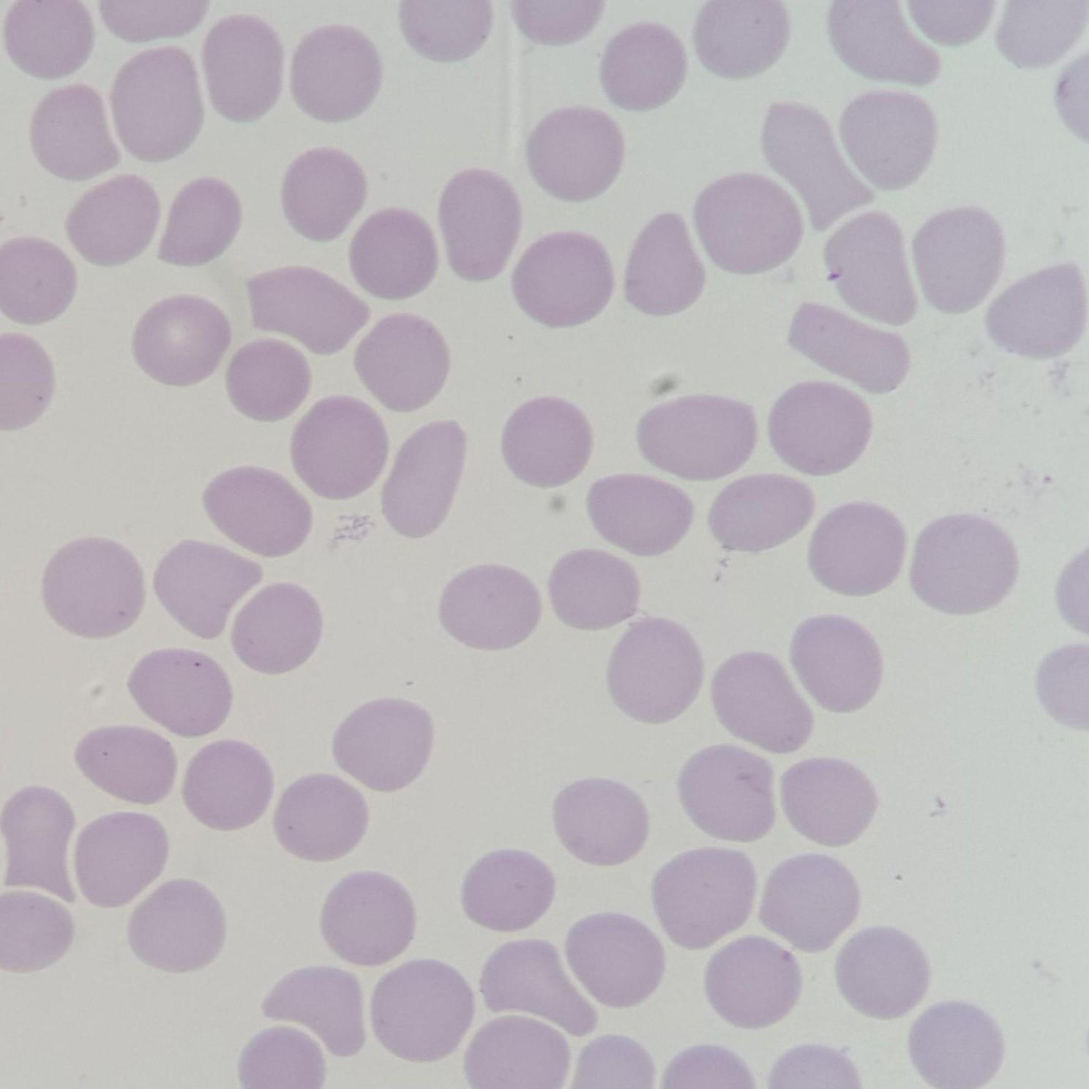Uninfected: (763, 102, 874, 226), (787, 300, 911, 396), (908, 512, 1019, 615), (246, 265, 369, 356), (111, 47, 208, 162), (154, 539, 266, 638), (821, 212, 918, 326), (693, 173, 802, 274), (40, 536, 144, 640), (709, 649, 811, 754), (479, 940, 593, 1033), (258, 964, 367, 1061), (201, 465, 313, 559), (605, 618, 703, 725), (652, 847, 757, 946), (676, 744, 781, 843), (768, 378, 876, 474), (370, 959, 473, 1059), (638, 394, 757, 480), (127, 645, 234, 739), (911, 206, 1005, 313), (291, 396, 389, 498), (127, 877, 229, 975), (511, 231, 613, 329), (332, 696, 435, 793), (789, 613, 885, 716), (318, 869, 417, 968), (761, 852, 861, 950), (807, 501, 908, 598), (984, 261, 1086, 357), (839, 91, 935, 192), (381, 422, 466, 536), (438, 169, 526, 277), (354, 311, 451, 408), (129, 296, 230, 388), (74, 812, 171, 907), (778, 756, 877, 849), (525, 107, 625, 199), (437, 562, 541, 650), (564, 913, 662, 1006), (703, 936, 802, 1028), (829, 1, 940, 83), (550, 776, 650, 867), (2, 785, 81, 900), (65, 173, 161, 267), (203, 16, 287, 122), (708, 471, 815, 554), (585, 472, 691, 555), (624, 210, 707, 316), (291, 26, 383, 121), (280, 146, 370, 242), (31, 83, 119, 181), (500, 396, 596, 484), (835, 927, 928, 1017), (74, 725, 178, 805), (231, 582, 322, 673), (348, 207, 438, 299), (182, 740, 274, 830), (272, 773, 367, 860), (461, 849, 559, 933), (908, 1000, 1002, 1085), (157, 176, 244, 267), (599, 23, 688, 109), (547, 547, 639, 630), (462, 1016, 568, 1088), (694, 1, 790, 79), (0, 234, 78, 326), (225, 337, 311, 419), (4, 0, 92, 79), (0, 888, 76, 970), (400, 2, 492, 61)
